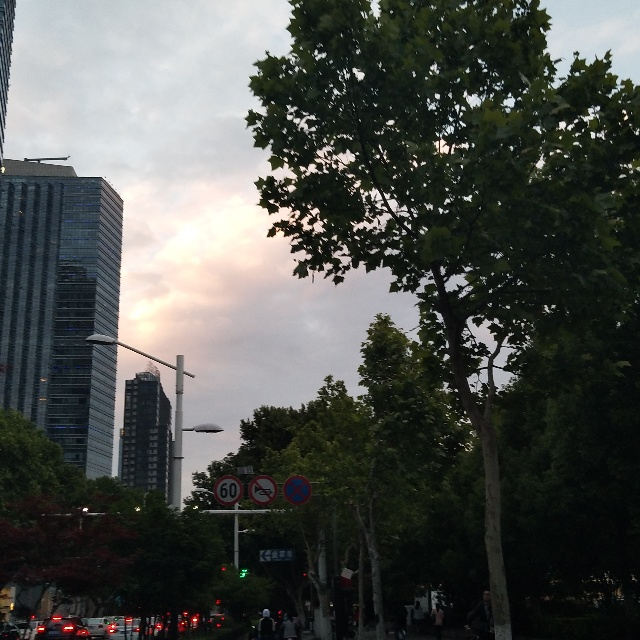nohonk: (248, 475, 277, 506)
stop: (282, 475, 312, 505)
